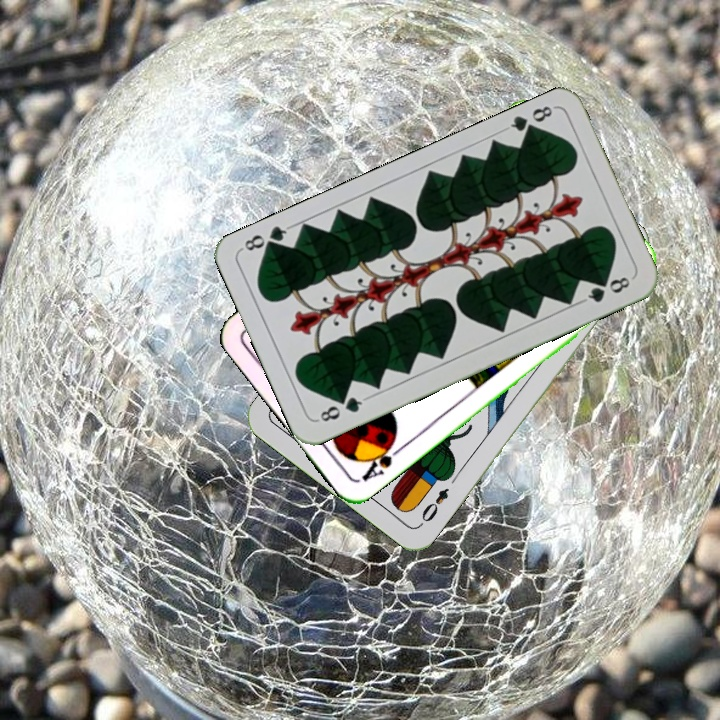EO: (416, 483, 452, 529)
G8: (501, 101, 557, 140), (313, 393, 369, 425)
SA: (357, 434, 407, 485)
